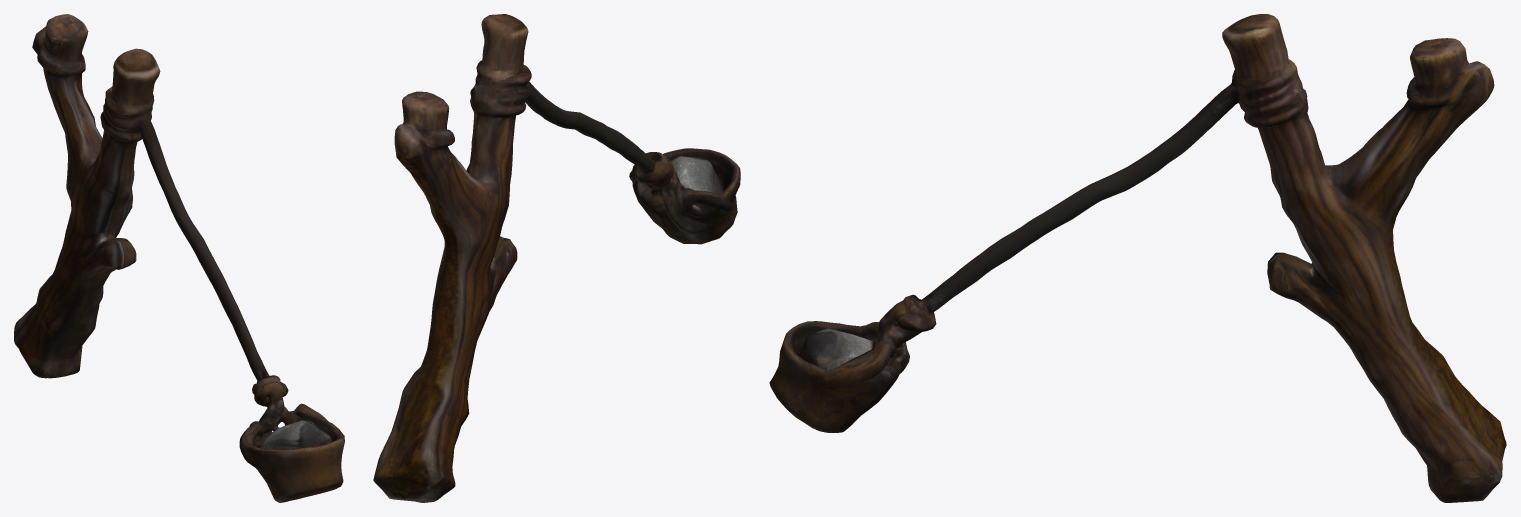
Rendered from Meshy_AI_Slingshot_Sentinel_0123041741_texture.glb.
3 renders of one model, left to right at view 1: azimuth 30°, elevation 25°; view 2: azimuth 150°, elevation 25°; view 3: azimuth 270°, elevation 25°, orthographic. The views are drawn at different scales.
Size of the model in its own units: 0.3505 by 1.44 by 2.01.
Materials: 1 (1 with a texture image).
